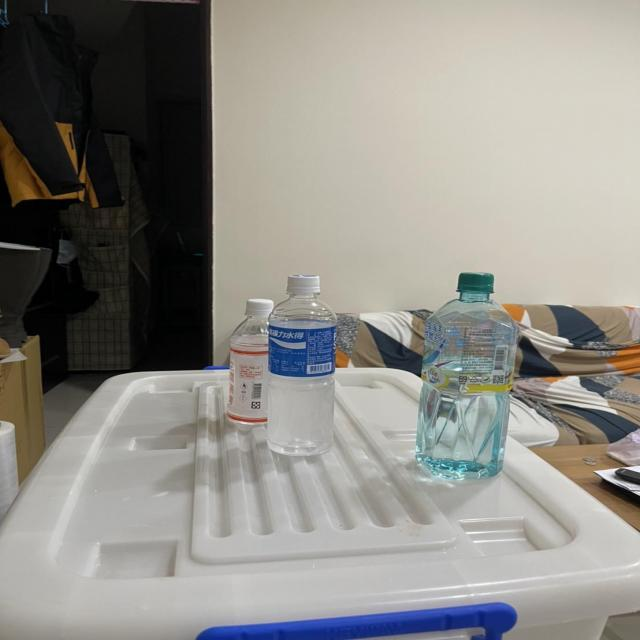bottle: (411, 276, 512, 481), (269, 274, 350, 466)
